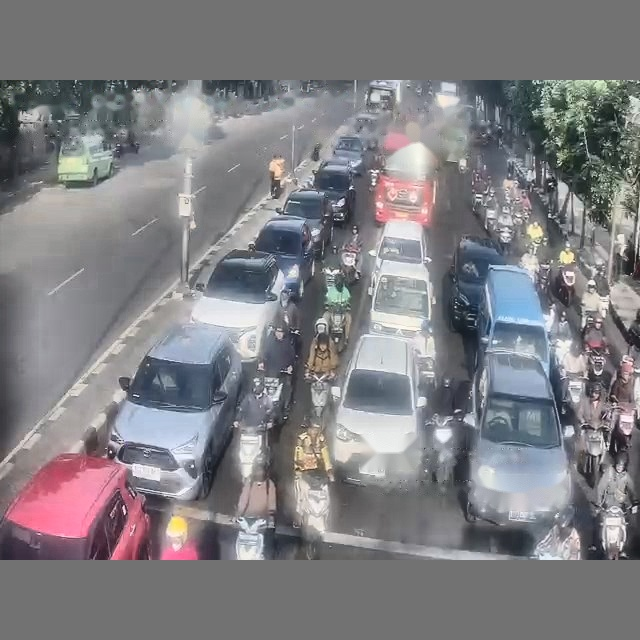Mobil: (107, 323, 242, 500), (464, 352, 573, 530), (0, 453, 150, 559), (330, 334, 426, 485), (191, 249, 284, 362), (369, 261, 435, 385), (443, 235, 505, 331), (249, 216, 315, 299), (369, 221, 430, 294), (276, 188, 332, 257), (313, 162, 355, 224), (333, 136, 365, 174), (317, 156, 355, 178), (355, 112, 380, 131)
Motor: (425, 409, 461, 490), (297, 471, 329, 559), (594, 504, 637, 559), (238, 421, 269, 481), (580, 423, 608, 488), (264, 370, 291, 424), (235, 517, 268, 559), (305, 371, 332, 420), (610, 403, 635, 454), (561, 372, 585, 414), (328, 304, 346, 352), (585, 345, 606, 383), (556, 265, 575, 307), (341, 244, 359, 286), (536, 261, 550, 297), (472, 192, 484, 214), (369, 169, 379, 191)
